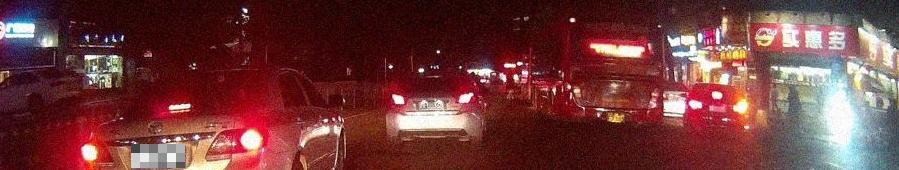L_light: (82, 138, 114, 165), (573, 85, 584, 106), (391, 94, 406, 106), (688, 101, 702, 109)
R_light: (204, 126, 265, 161), (648, 87, 659, 109), (458, 93, 475, 103), (733, 104, 746, 111)
T_light: (169, 103, 191, 111), (612, 53, 629, 57), (712, 93, 722, 98), (429, 78, 439, 81)
night-brake: (81, 68, 273, 170)
night-no: (564, 14, 664, 128), (385, 74, 479, 146)
night-right: (687, 82, 747, 134)
plate_1: (131, 144, 185, 168)
